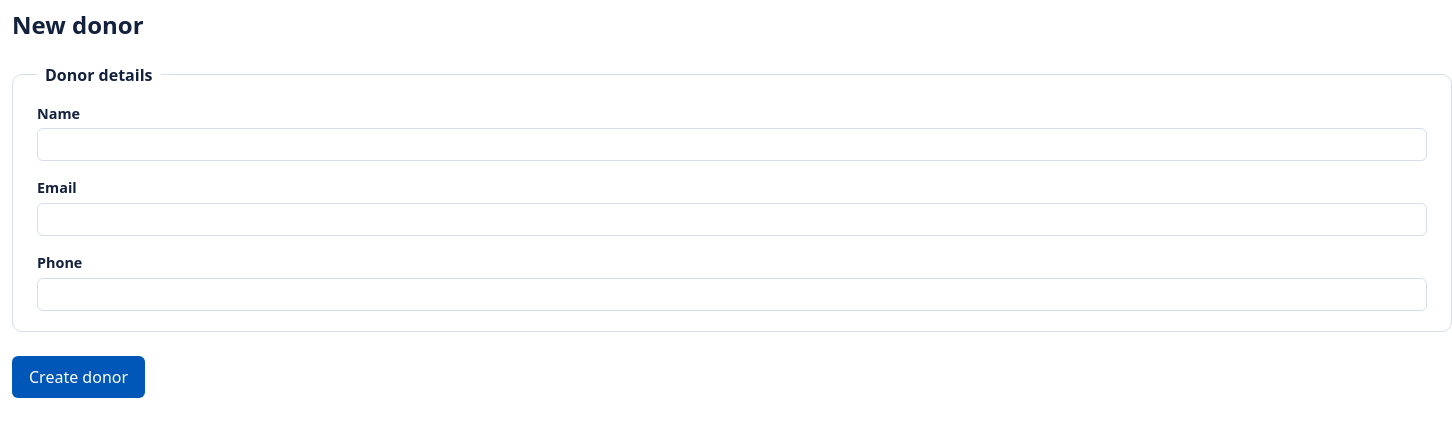
requires a name to create a donor
Click the button "Create donor" at (79, 377), box x1=12 y1=356 x2=145 y2=398
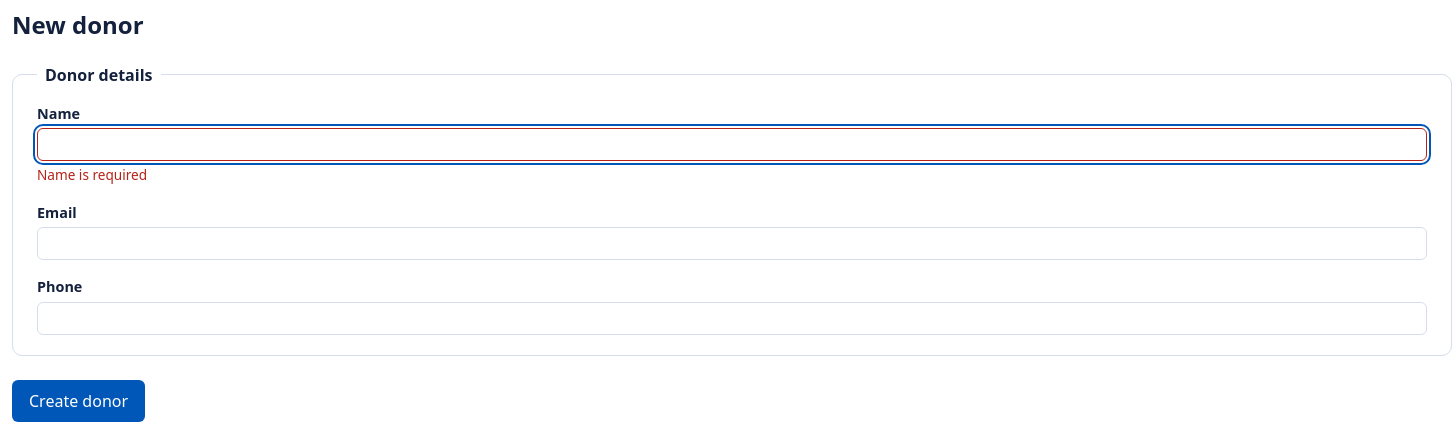
Result: the text "Name is required" is shown at x1=37 y1=165 x2=147 y2=184
